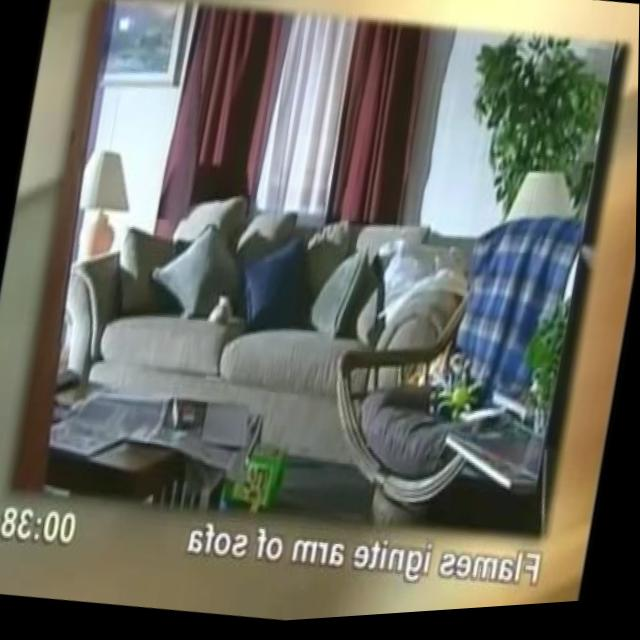fire: (406, 342, 457, 400)
